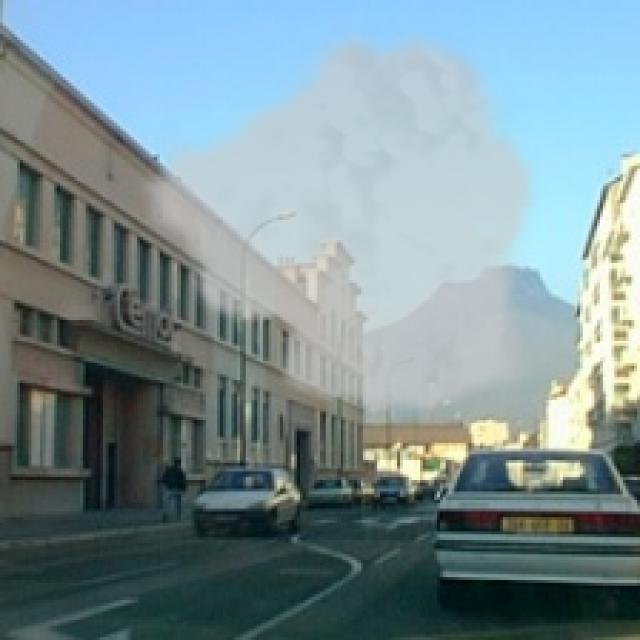Smoke: (135, 23, 540, 420)
